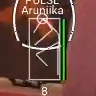hacks_1: (21, 1, 67, 96)
